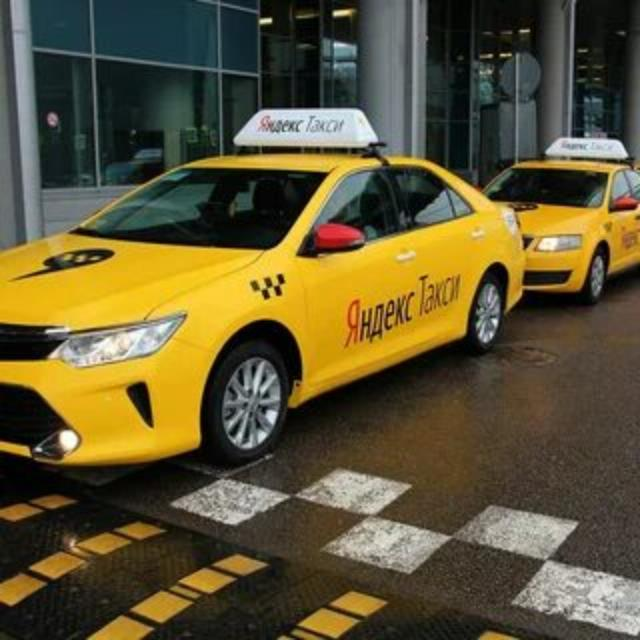taxi: (1, 105, 527, 473), (461, 139, 640, 309)
